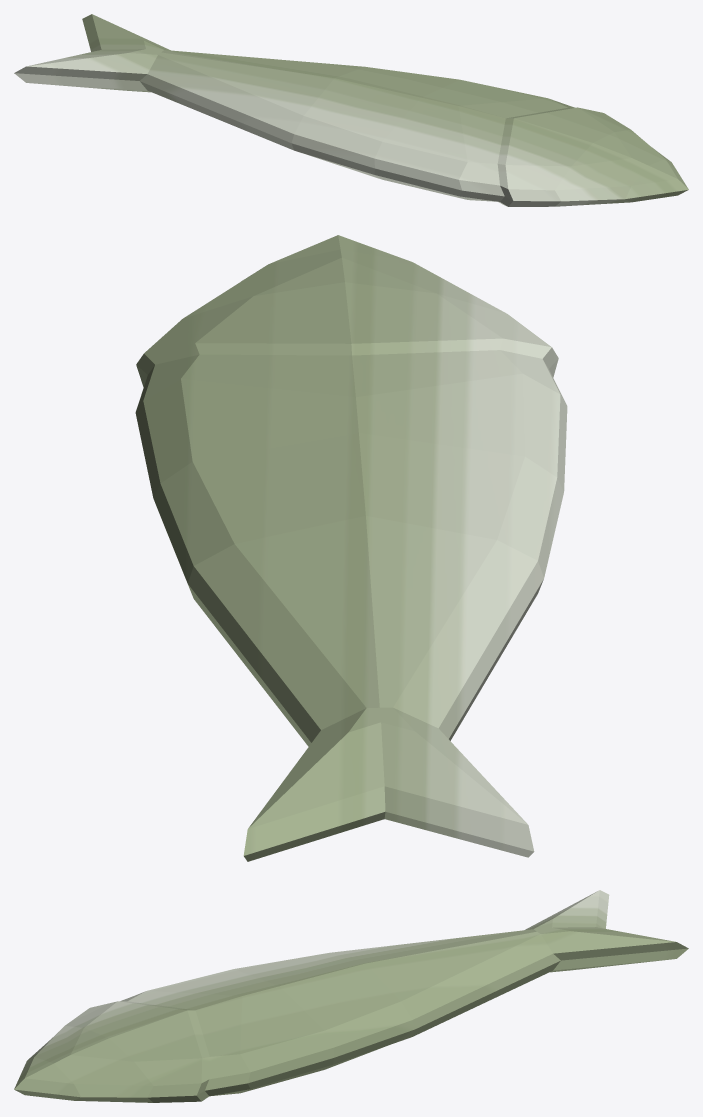
The model's file is Fish.fbx.
3 renders of one model, top to bottom at view 1: azimuth 30°, elevation 25°; view 2: azimuth 150°, elevation 25°; view 3: azimuth 270°, elevation 25°, orthographic. The views are drawn at different scales.
Visible parts, largest first — view 1: Fish; view 2: Fish; view 3: Fish.
Boxes of the visible parts, left/top/right/bottom form: Fish: left=14, top=14, right=688, bottom=206; Fish: left=135, top=235, right=567, bottom=861; Fish: left=14, top=890, right=688, bottom=1102.
Size of the model in its own units: 89.06 by 13.63 by 125.
